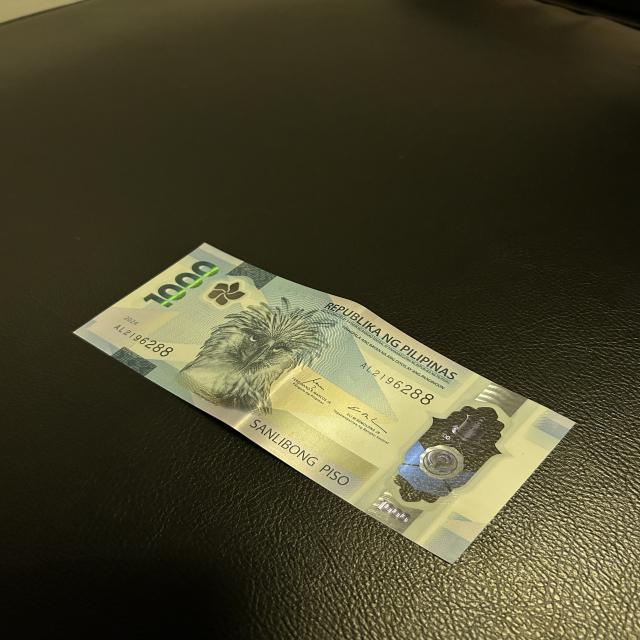clear_window: (390, 402, 507, 504)
eagle: (199, 298, 327, 416)
sampaguita: (207, 282, 243, 303)
